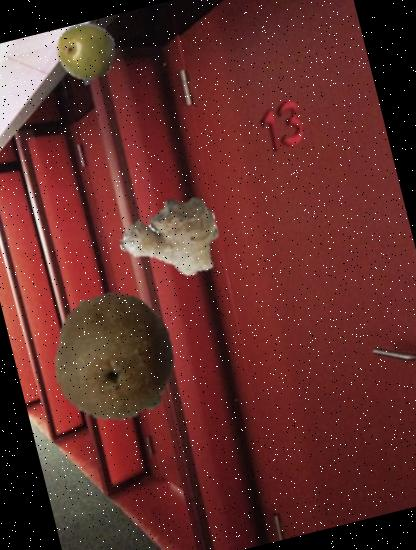Ginger: (112, 182, 232, 302)
Kiwi: (34, 278, 192, 437)
Maracuja: (51, 16, 124, 89)
